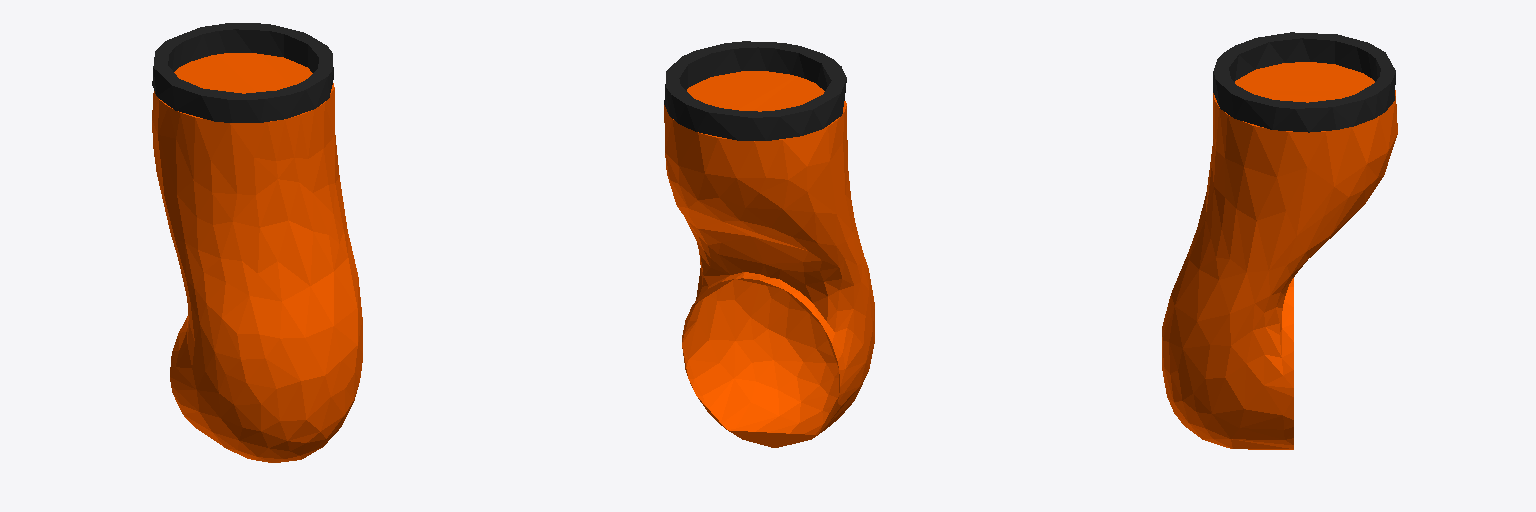
File: kuka2.obj
3 views of the same model, side by side, from view 1: azimuth 30°, elevation 25°; view 2: azimuth 150°, elevation 25°; view 3: azimuth 270°, elevation 25° (orthographic).
Parts seen in each view (by area): view 1: unnamed_object1; view 2: unnamed_object1; view 3: unnamed_object1.
Part boxes in pixels (left/top/right/bottom): unnamed_object1: left=152, top=23, right=362, bottom=462; unnamed_object1: left=664, top=41, right=874, bottom=447; unnamed_object1: left=1162, top=32, right=1397, bottom=449.
Bounding box in the file's own units: 0.1212 × 0.2689 × 0.1549.